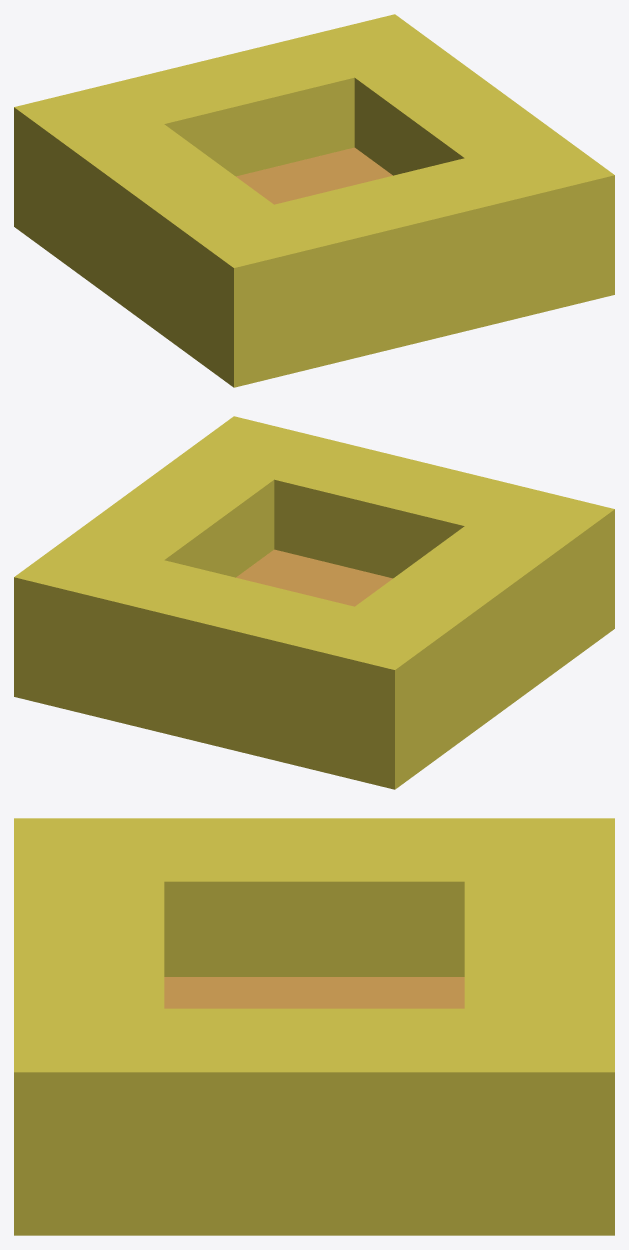
Rendered from coin.glb.
3 views of the same model, one above another, from view 1: azimuth 30°, elevation 25°; view 2: azimuth 150°, elevation 25°; view 3: azimuth 270°, elevation 25° (orthographic). The views are drawn at different scales.
Parts seen in each view (by area): view 1: Mesh_Mesh_head_geo.001_lambert2SG.001; view 2: Mesh_Mesh_head_geo.001_lambert2SG.001; view 3: Mesh_Mesh_head_geo.001_lambert2SG.001.
Boxes of the visible parts, x1=… form: Mesh_Mesh_head_geo.001_lambert2SG.001: x1=14, y1=14, x2=614, y2=387; Mesh_Mesh_head_geo.001_lambert2SG.001: x1=14, y1=416, x2=614, y2=789; Mesh_Mesh_head_geo.001_lambert2SG.001: x1=14, y1=818, x2=614, y2=1235.
Bounding box in the file's own units: 40 × 12 × 40.
